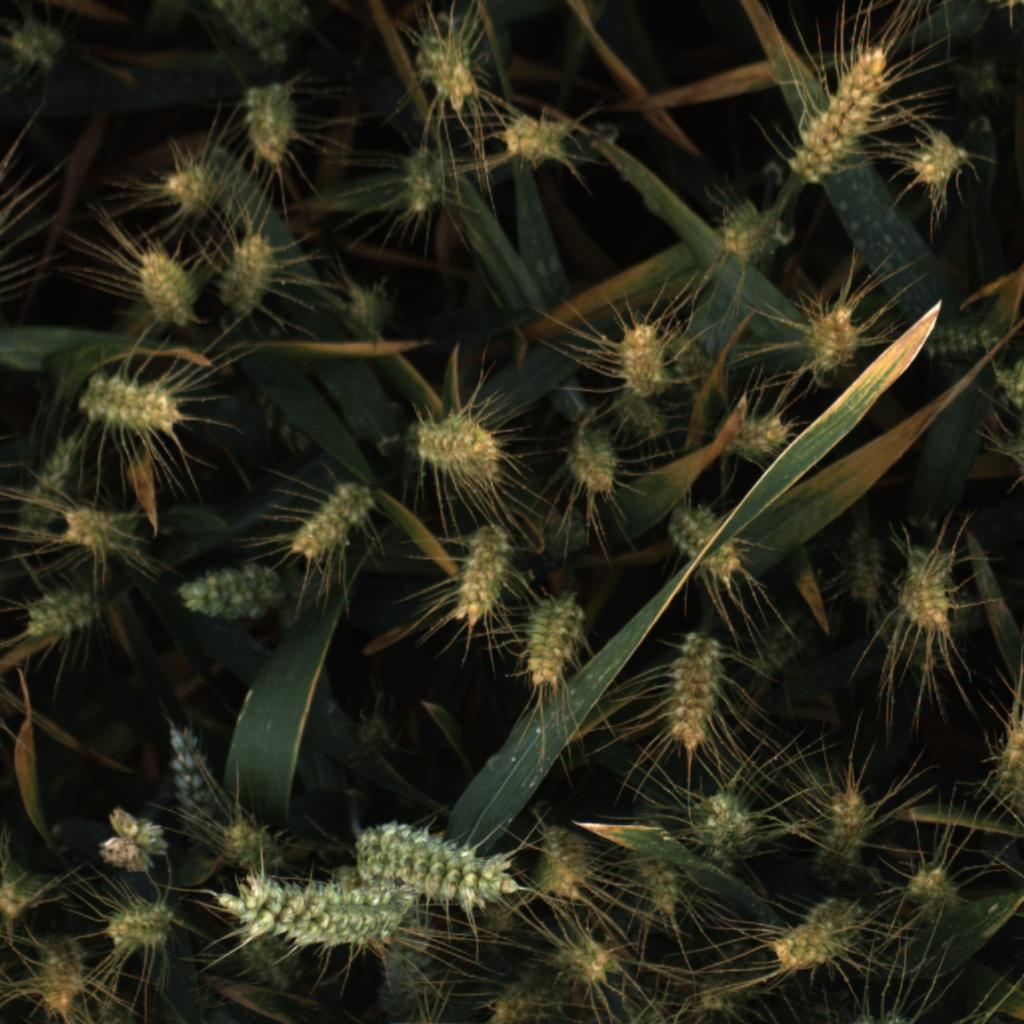0-0: (784, 40, 897, 181), (352, 819, 531, 908), (220, 870, 408, 950), (656, 634, 741, 756), (78, 357, 187, 446), (395, 9, 489, 111), (175, 556, 295, 629), (158, 722, 225, 852), (758, 898, 869, 976), (287, 473, 384, 562), (10, 423, 82, 539), (521, 591, 594, 698), (375, 910, 446, 1020), (126, 239, 210, 331), (447, 519, 514, 634), (188, 0, 310, 62), (689, 777, 765, 876), (411, 407, 507, 484), (708, 189, 798, 271), (894, 536, 961, 643), (668, 499, 747, 589), (809, 782, 882, 878), (534, 816, 609, 908), (91, 795, 173, 879), (218, 227, 290, 322), (792, 290, 869, 378), (547, 922, 641, 994), (491, 109, 595, 174), (237, 81, 310, 173), (30, 930, 100, 1024), (16, 578, 109, 648), (756, 590, 828, 678), (0, 0, 78, 79), (97, 892, 188, 959), (57, 496, 149, 562), (602, 313, 677, 393), (914, 310, 1010, 372), (470, 960, 559, 1024), (392, 139, 459, 222), (721, 400, 799, 471), (214, 807, 290, 878), (633, 836, 692, 926), (899, 855, 978, 921), (558, 418, 621, 500), (594, 383, 676, 446), (904, 120, 971, 197), (239, 915, 307, 989), (832, 525, 888, 612), (158, 145, 217, 226), (667, 320, 729, 397), (336, 277, 396, 348), (1, 851, 62, 920), (985, 712, 1024, 815), (688, 942, 746, 1010), (940, 50, 1009, 107), (352, 709, 401, 766), (996, 353, 1024, 415), (573, 290, 577, 292)
